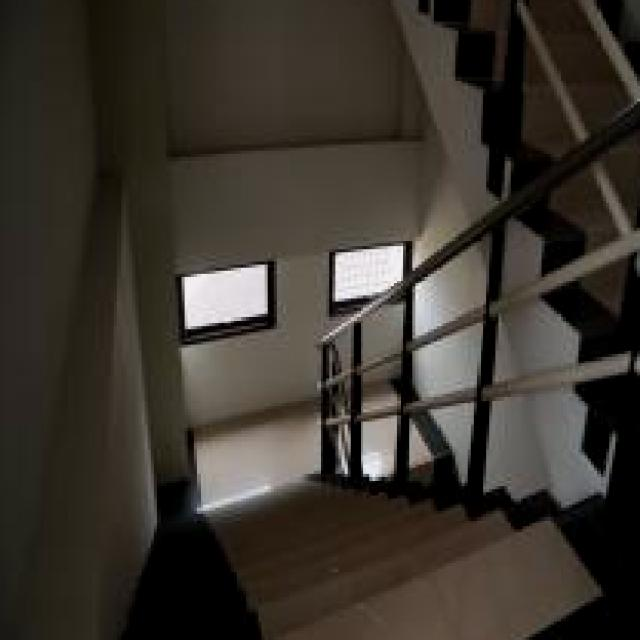downstair: (161, 499, 607, 640)
